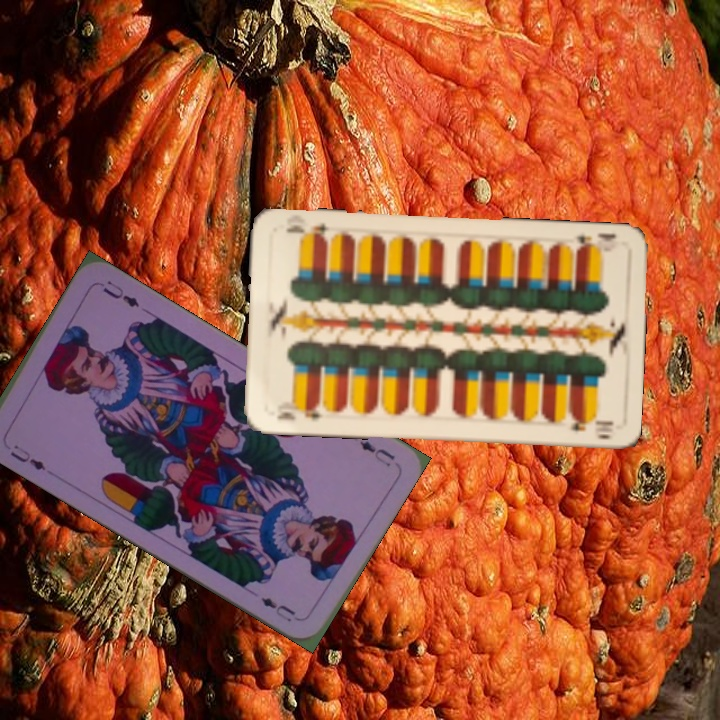E10: (571, 229, 618, 256), (273, 401, 323, 423)
EU: (5, 440, 49, 473), (355, 437, 398, 469)
